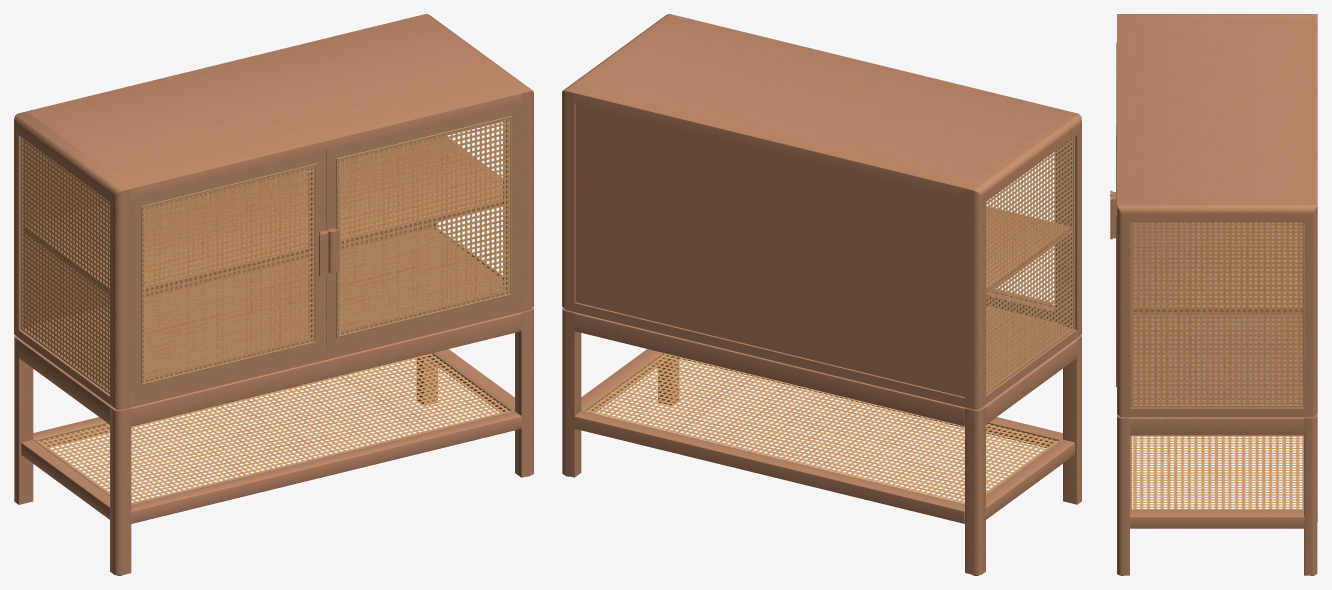
Rendered from cane_cabinet.gltf.
3 views of the same model, side by side, from view 1: azimuth 30°, elevation 25°; view 2: azimuth 150°, elevation 25°; view 3: azimuth 270°, elevation 25° (orthographic). The views are drawn at different scales.
Visible parts, largest first — view 1: Mesh2 (×2); view 2: Mesh2 (×2); view 3: Mesh2 (×2).
Boxes of the visible parts, box(x1,y1,x2,y2) form: Mesh2 (×2): box(14, 14, 533, 575); Mesh2 (×2): box(562, 14, 1081, 575); Mesh2 (×2): box(1110, 14, 1317, 575).
Size of the model in its own units: 0.86 by 0.7575 by 0.3852.
Materials: 2 (2 with a texture image).
